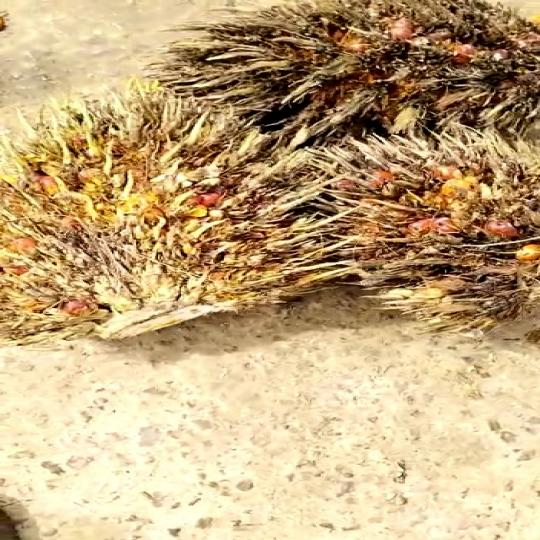terlalu masak: (0, 89, 342, 342), (141, 0, 540, 132), (303, 122, 538, 343)
